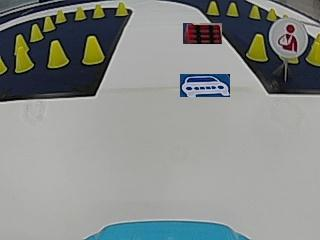cone: (14, 36, 33, 72), (82, 35, 104, 65), (46, 40, 68, 69), (246, 34, 268, 61), (305, 33, 320, 66), (30, 23, 43, 41), (92, 4, 105, 18), (114, 2, 127, 16), (226, 2, 239, 16), (44, 16, 56, 31), (74, 6, 86, 20), (207, 2, 219, 15), (249, 5, 260, 19), (55, 9, 66, 22), (266, 7, 277, 20), (0, 54, 7, 74)
patient: (271, 19, 304, 56), (279, 22, 298, 53)
